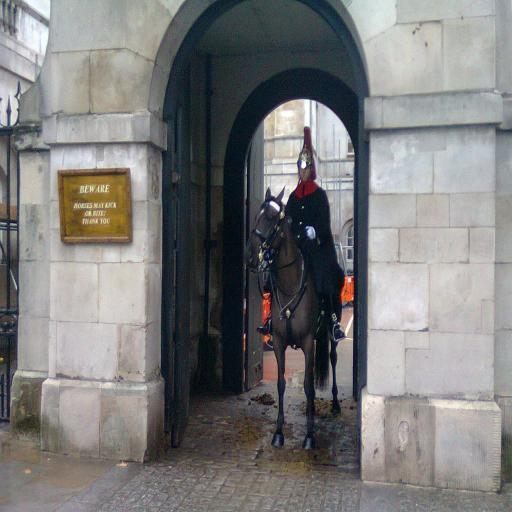horse: (243, 186, 343, 449)
